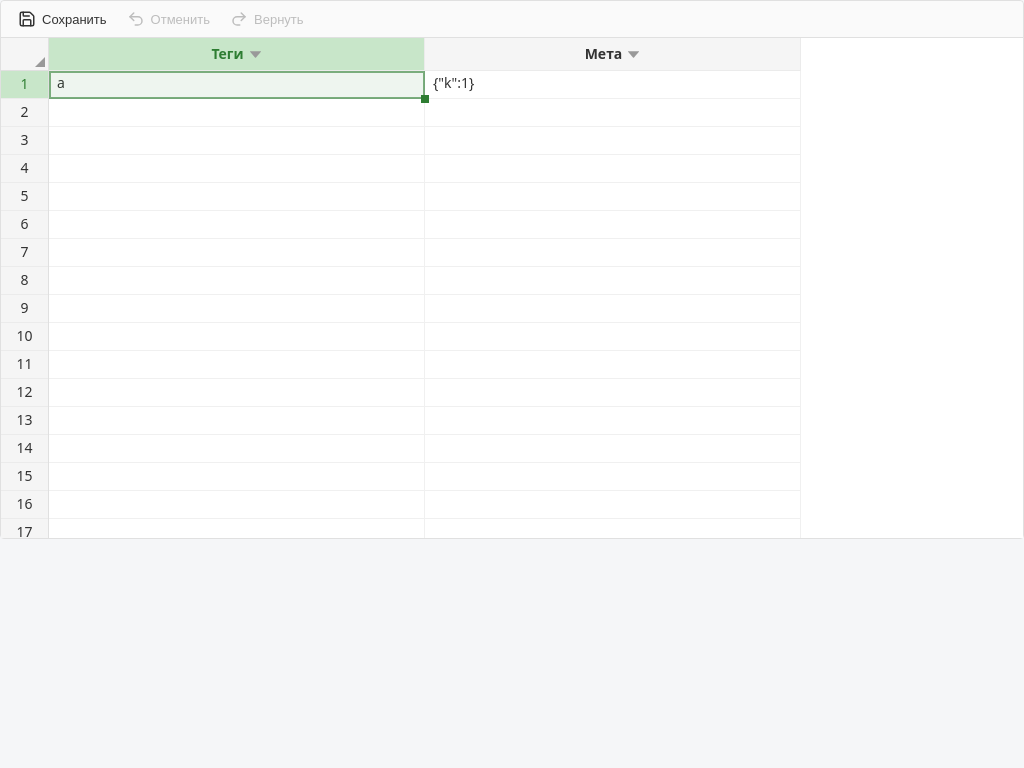
Test case: NativeTable: позиционирование array/json-редакторов › array-редактор не выходит за нижний/правый край вьюпорта
Double-click the element showing "a" at (237, 85), box 49,71 -> 425,99
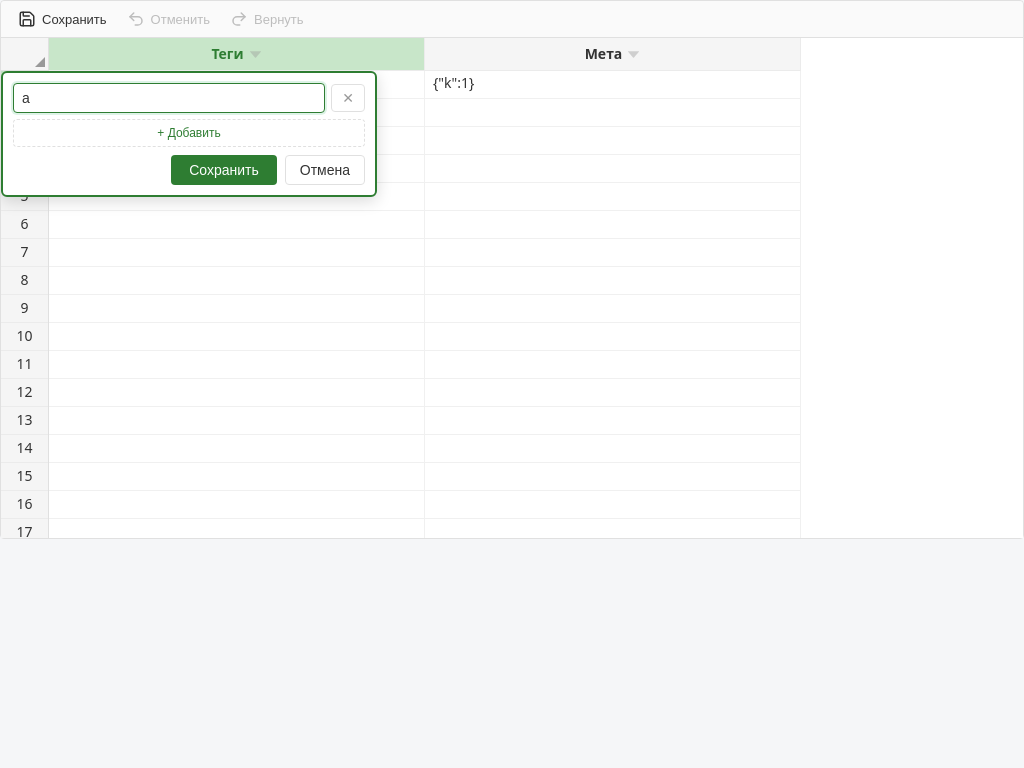
Result: the element with class "nt-editor--array" is shown at 1,71 -> 377,197
